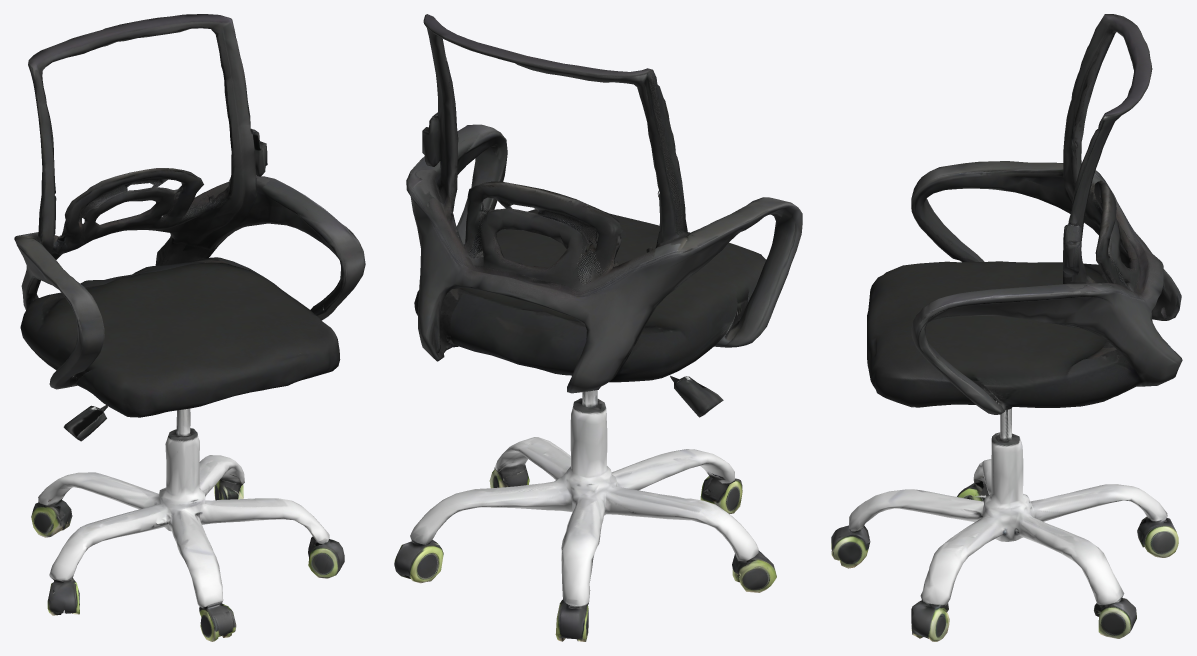
3 views of the same model, side by side, from view 1: azimuth 30°, elevation 25°; view 2: azimuth 150°, elevation 25°; view 3: azimuth 270°, elevation 25° (orthographic). The views are drawn at different scales.
Visible parts, largest first — view 1: Mesh_0; view 2: Mesh_0; view 3: Mesh_0.
Boxes of the visible parts, box(x1,y1,x2,y2) form: Mesh_0: box(14, 14, 365, 641); Mesh_0: box(394, 14, 802, 641); Mesh_0: box(831, 14, 1182, 641).
Bounding box in the file's own units: 0.6432 × 1.05 × 0.6455.
1 material, 1 textured.
